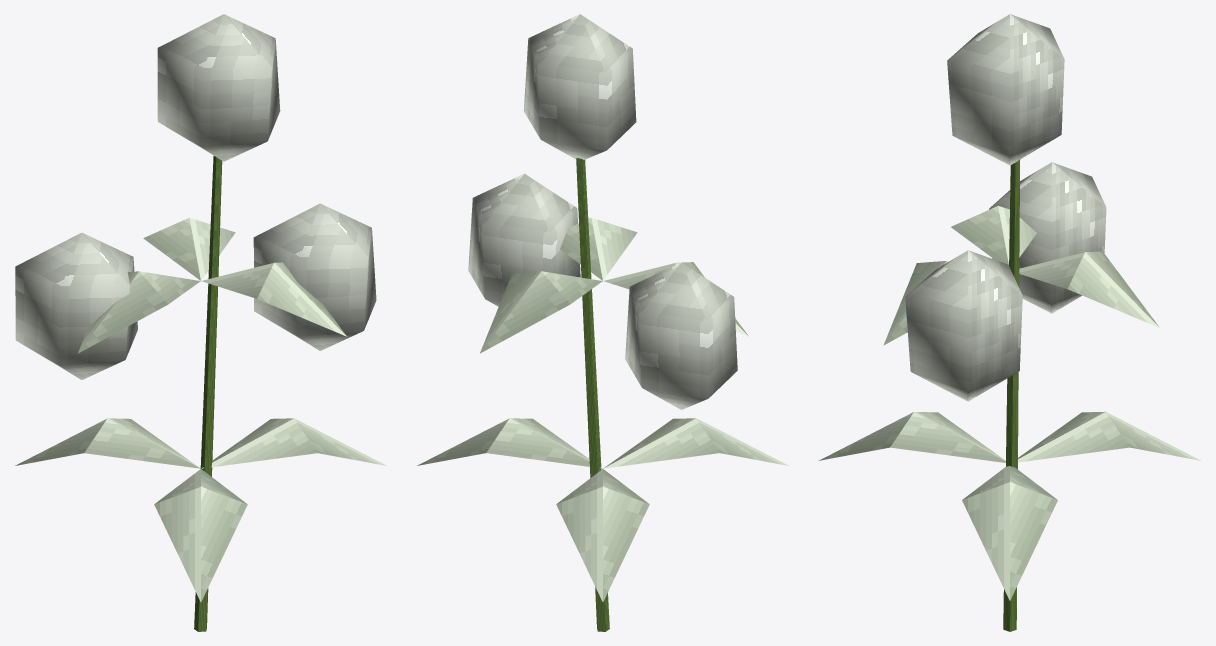
The model's file is tall_2_lod.obj.
3 views of the same model, side by side, from view 1: azimuth 30°, elevation 25°; view 2: azimuth 150°, elevation 25°; view 3: azimuth 270°, elevation 25° (orthographic). The views are drawn at different scales.
Parts seen in each view (by area): view 1: plant; view 2: plant; view 3: plant.
Part boxes in pixels (x1,y1,x2,y2): plant: [15, 14, 386, 631]; plant: [417, 14, 788, 631]; plant: [818, 14, 1201, 631].
Bounding box in the file's own units: 0.5886 × 1.03 × 0.5729.
